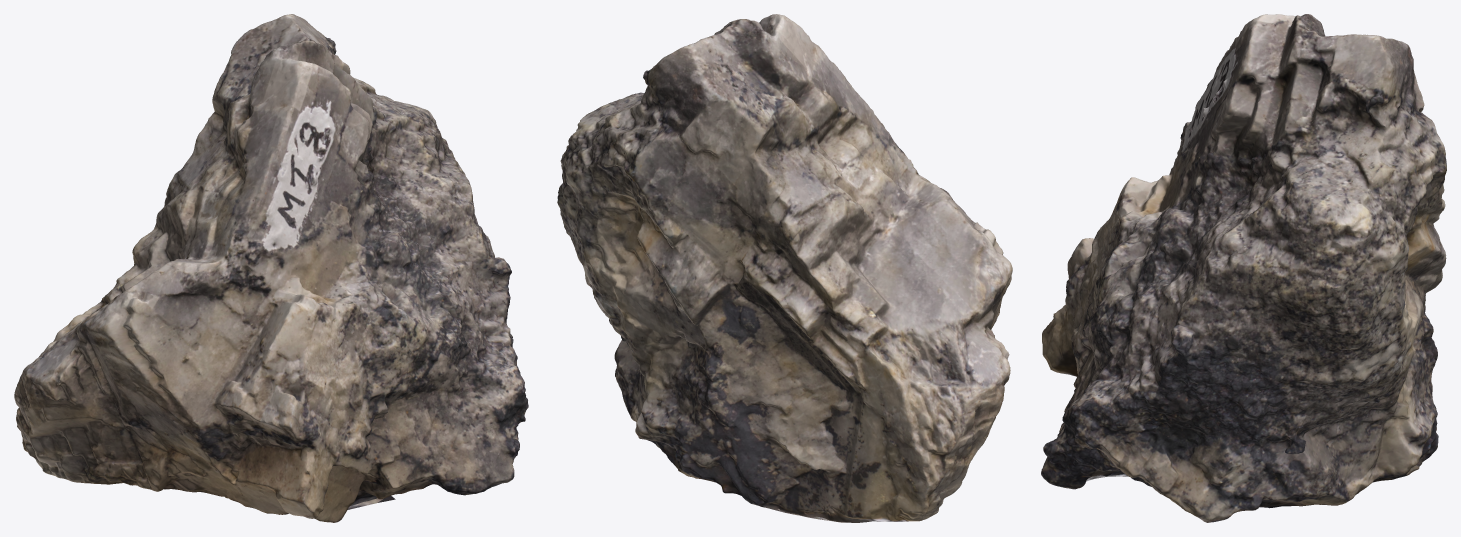
File: plata.glb
3 renders of one model, left to right at view 1: azimuth 30°, elevation 25°; view 2: azimuth 150°, elevation 25°; view 3: azimuth 270°, elevation 25°, orthographic. The views are drawn at different scales.
Parts seen in each view (by area): view 1: Object_2, Object_3, Object_4, Object_5; view 2: Object_2, Object_4, Object_3, Object_5; view 3: Object_4, Object_3, Object_2, Object_5.
Boxes of the visible parts, x1,y1,x2,y2 form: Object_2: (14, 29, 527, 522); Object_3: (14, 14, 528, 522); Object_4: (36, 26, 528, 518); Object_5: (32, 69, 527, 517); Object_2: (578, 22, 1012, 522); Object_4: (557, 14, 1010, 522); Object_3: (578, 14, 1012, 522); Object_5: (773, 39, 1011, 521); Object_4: (1042, 14, 1438, 522); Object_3: (1041, 14, 1446, 512); Object_2: (1041, 14, 1446, 521); Object_5: (1043, 65, 1297, 518).
Size of the model in its own units: 8.05 by 7.68 by 6.07.
1 material, 1 textured.
